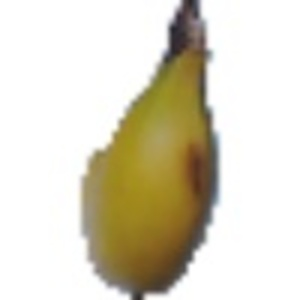banana: (74, 2, 226, 294)
